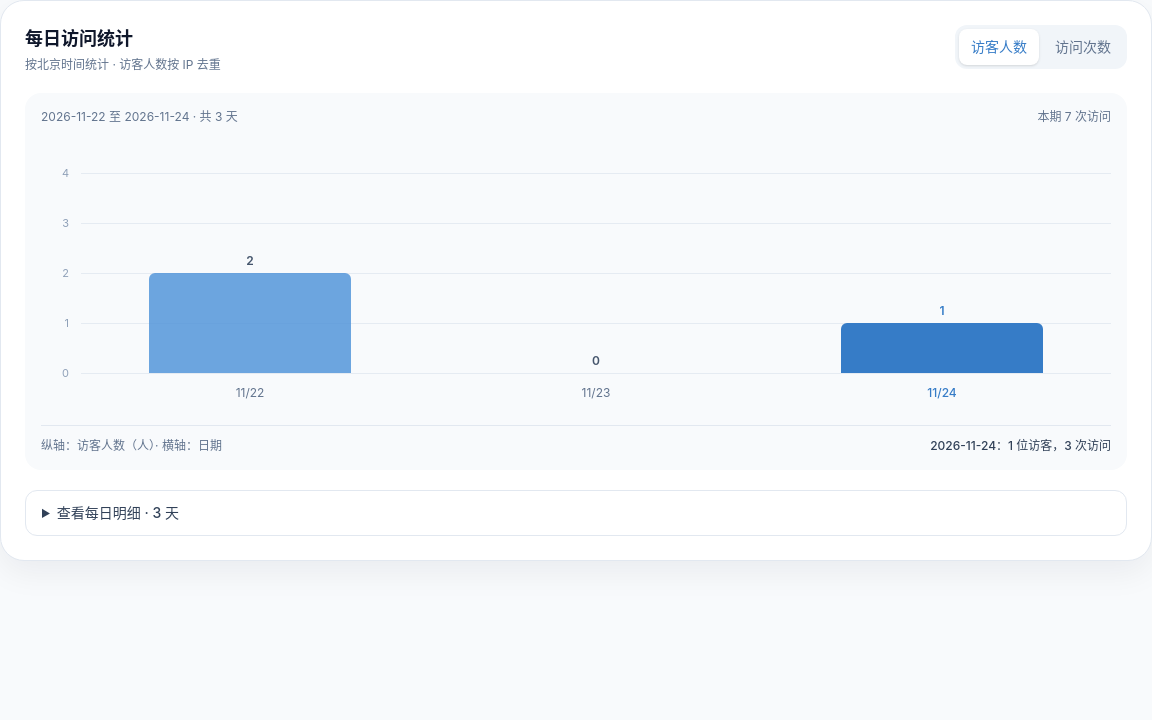
Test: daily visitor chart › shows daily people counts including zero days and switches to visit counts
The width and height of the screenshot is (1152, 720).
Expected: the 1st text "2" is shown, [246,253,254,269]
Expected: the 1st text "0" is shown, [592,353,600,369]
Click the button "访问次数": (1083, 47) [1043,29,1123,65]
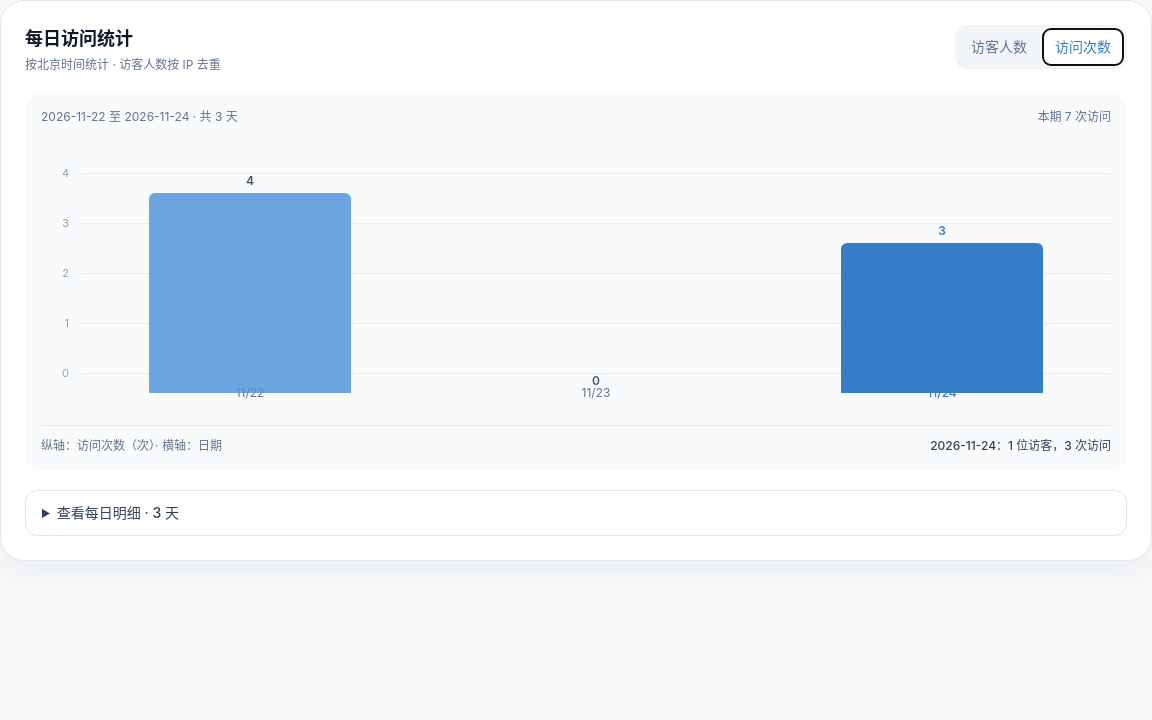
Expected: the 2nd text "4" is shown, [246,173,254,189]
Expected: the element named "每日访问次数柱状图" is shown, [41,141,1111,409]
Click the button named "2026-11-22：2 人，4 次访问": (250, 283) [81,173,419,393]
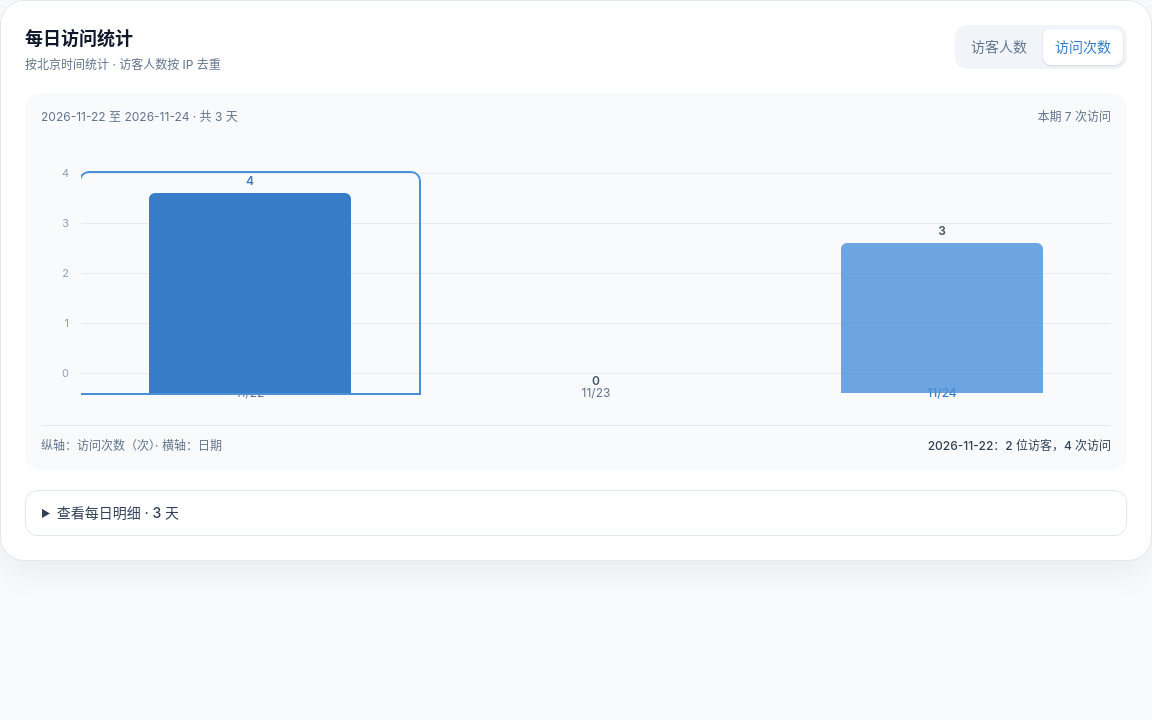
Expected: the text "2026-11-22：2 位访客，4 次访问" is shown, [928,438,1111,454]
